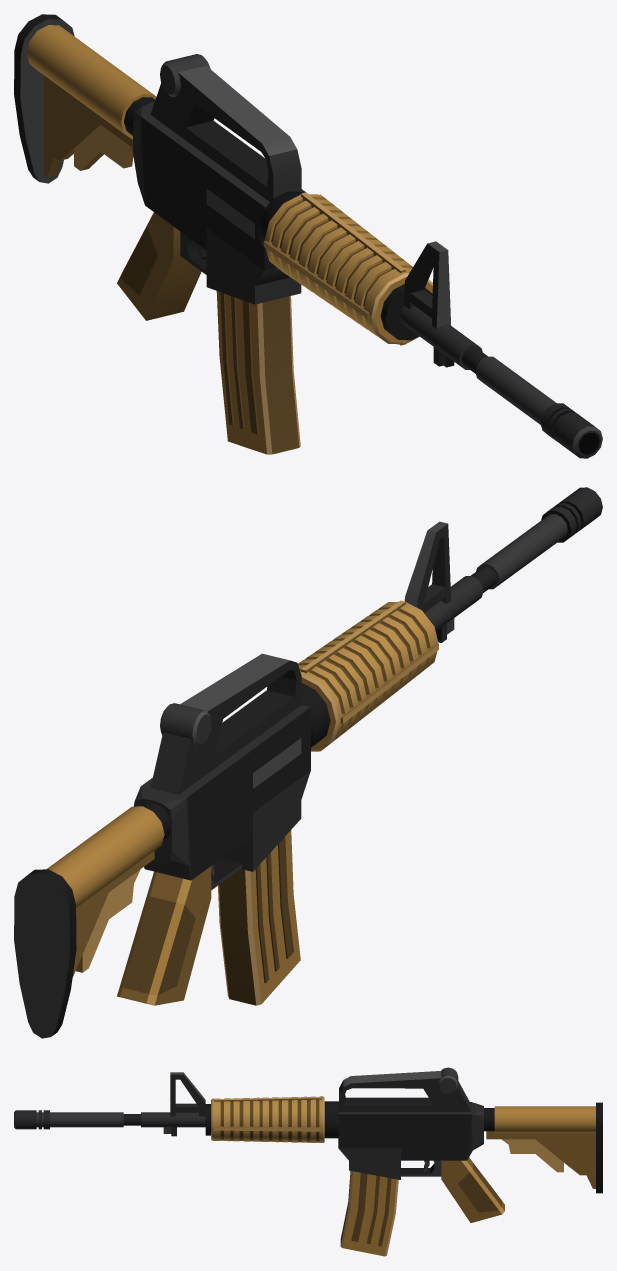
Rendered from ColtM4Desert.fbx.
3 renders of one model, top to bottom at view 1: azimuth 30°, elevation 25°; view 2: azimuth 150°, elevation 25°; view 3: azimuth 270°, elevation 25°, orthographic. The views are drawn at different scales.
Visible parts, largest first — view 1: ColtM4Desert; view 2: ColtM4Desert; view 3: ColtM4Desert.
Part boxes in pixels (x1,y1,x2,y2): ColtM4Desert: [14, 14, 602, 458]; ColtM4Desert: [14, 487, 602, 1038]; ColtM4Desert: [14, 1067, 602, 1256].
Bounding box in the file's own units: 16.81 × 68.09 × 201.
